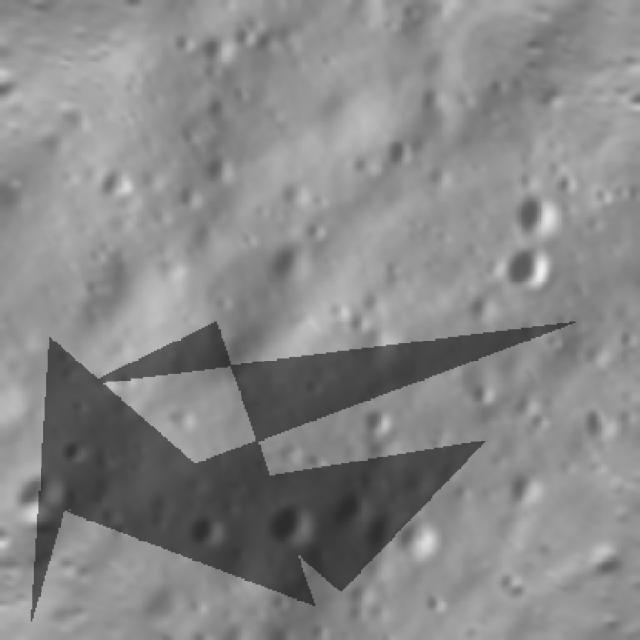crater: (252, 488, 330, 566), (488, 228, 564, 306), (496, 186, 572, 260), (374, 506, 448, 580), (488, 453, 561, 525), (345, 396, 410, 458), (316, 481, 376, 542), (172, 502, 232, 562), (565, 395, 624, 454), (185, 142, 244, 201), (368, 127, 422, 179), (458, 372, 508, 422), (51, 428, 100, 478), (410, 582, 455, 626), (600, 317, 640, 365), (332, 635, 383, 640), (637, 280, 640, 326)
